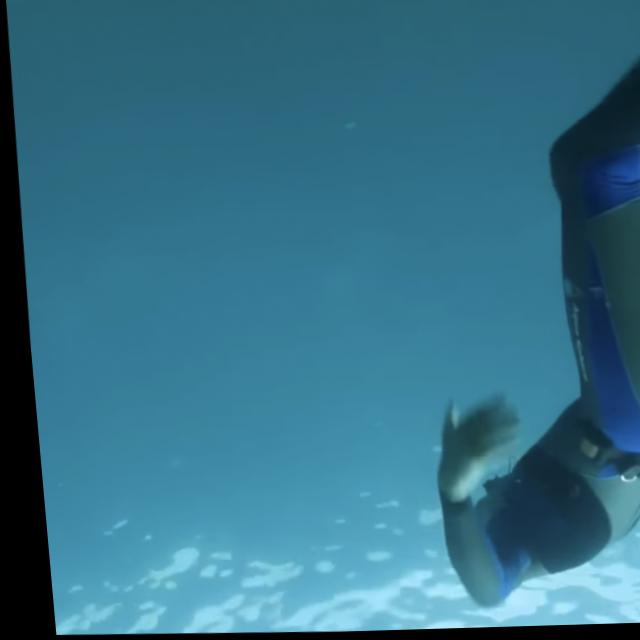human: (384, 0, 640, 622)
